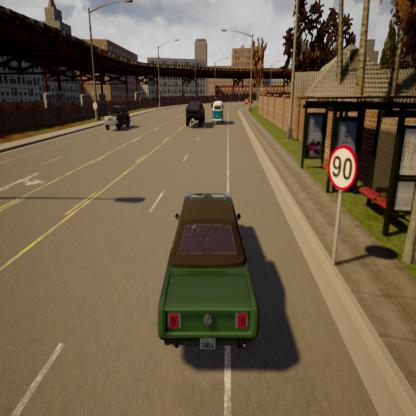Cars: (142, 167, 274, 365), (99, 98, 141, 137), (180, 93, 208, 134), (211, 96, 225, 130), (242, 90, 256, 106)
